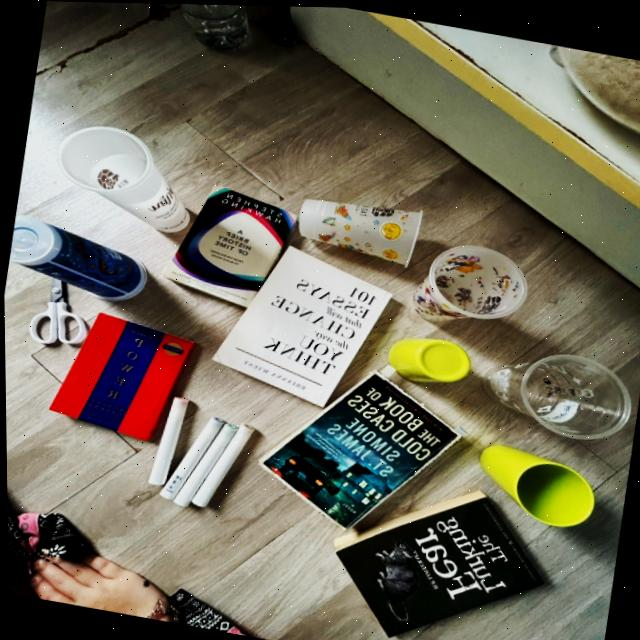Book: (258, 369, 461, 528), (334, 487, 543, 632), (213, 245, 391, 405), (49, 313, 193, 439), (164, 187, 293, 305)
HighLight Pen: (171, 422, 236, 506), (159, 417, 222, 499), (191, 424, 252, 506), (148, 397, 187, 485)
Plastic Cup: (57, 126, 188, 231), (487, 352, 630, 437), (9, 211, 143, 301), (411, 244, 525, 318), (298, 198, 421, 265)
Scissors: (28, 279, 88, 344)
WaterGlass: (479, 443, 592, 524), (387, 337, 469, 380)
